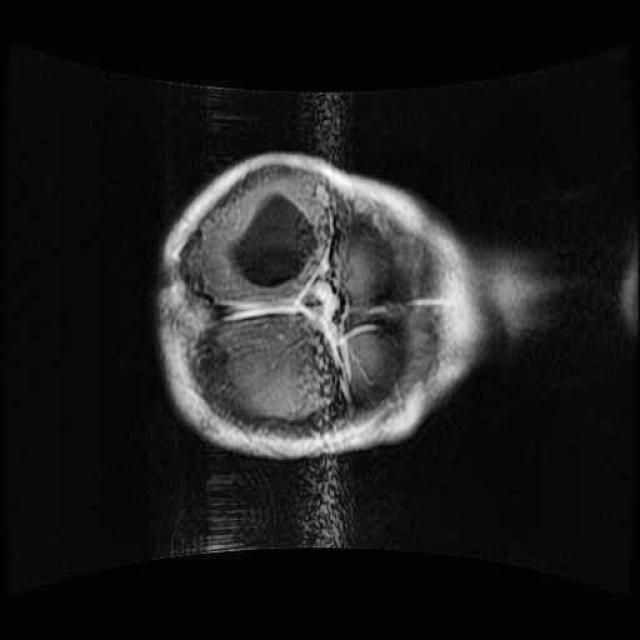Non-Tumor: (214, 181, 335, 304)
